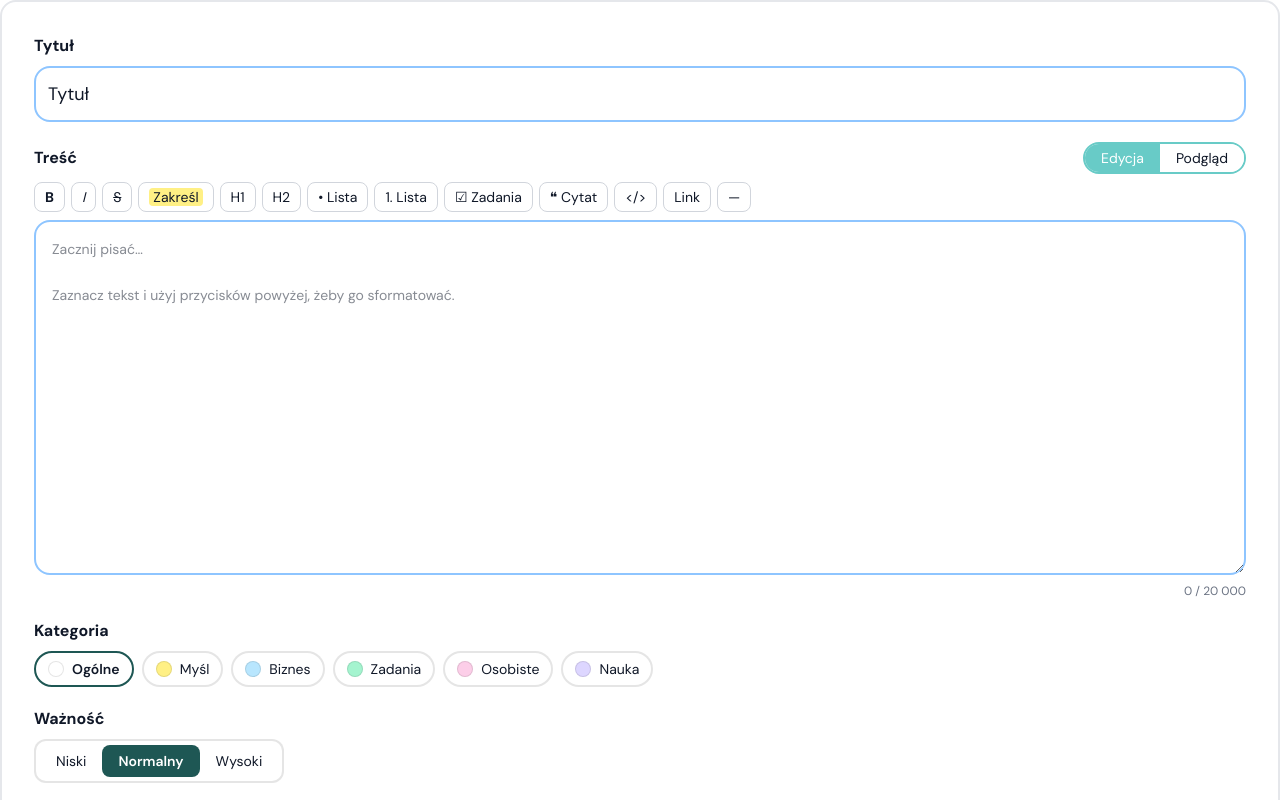
Scenario: NoteEditor — pasek formatowania › bez zaznaczenia wstawia tekst przykładowy
Click the button titled "Kursywa (Ctrl+I)" at coordinates (84, 197), box x1=71 y1=182 x2=96 y2=212
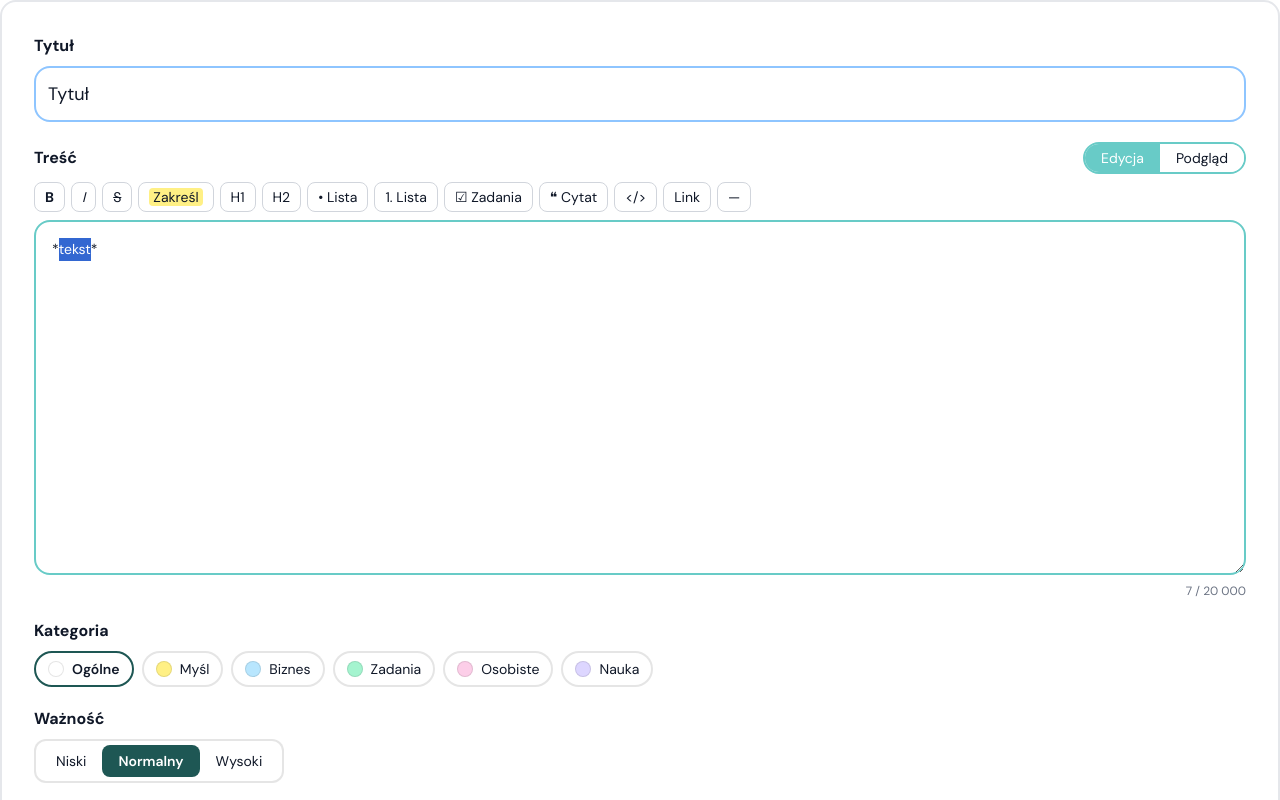
expect the text box with placeholder "Zacznij pisać" holds "*tekst*": met, box x1=34 y1=220 x2=1246 y2=574
